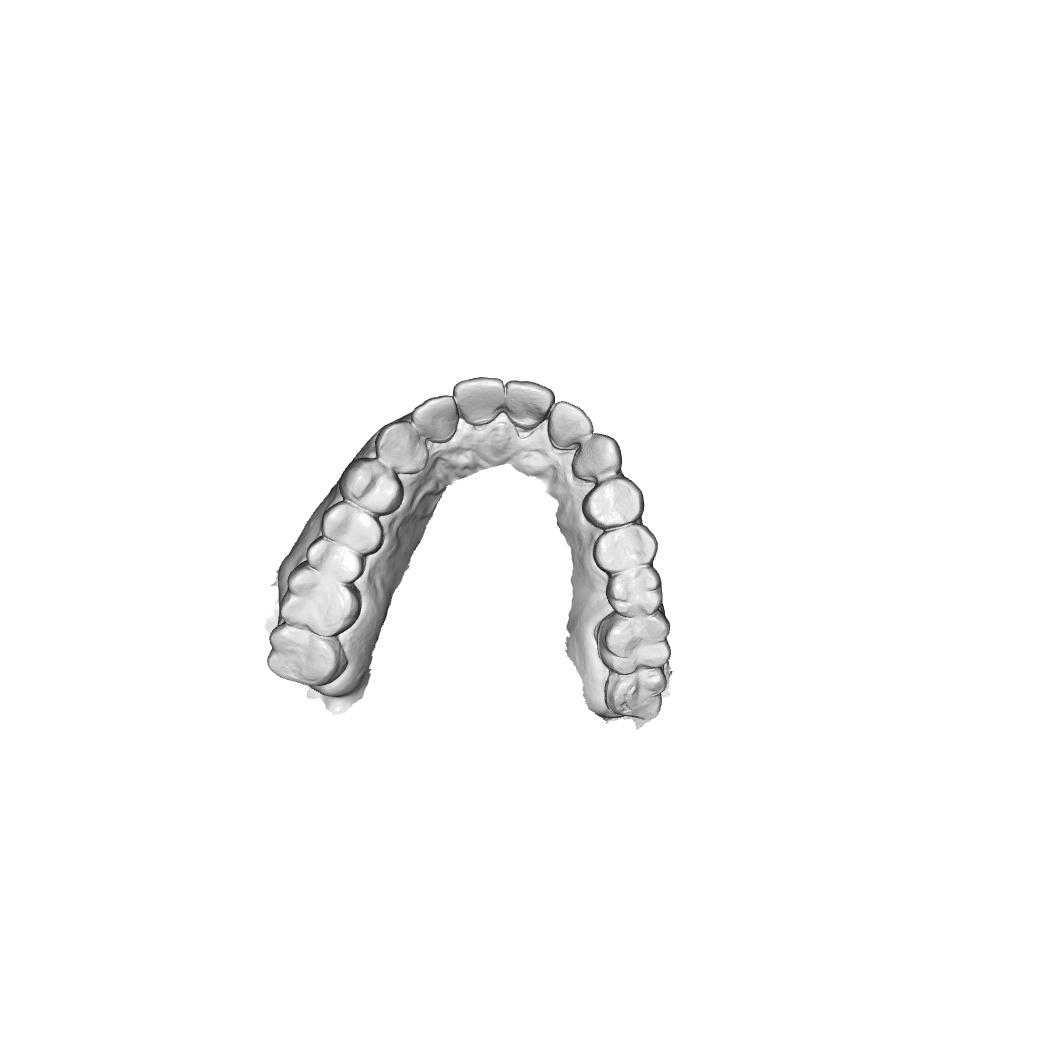canine: (373, 420, 430, 476), (570, 432, 624, 482)
incisor: (502, 378, 557, 432), (452, 375, 505, 429), (408, 394, 461, 444), (546, 400, 596, 452)
molar: (278, 562, 363, 640), (265, 621, 351, 689), (593, 610, 673, 677), (602, 667, 669, 723), (604, 567, 665, 619), (305, 535, 365, 584)
premolar: (337, 456, 406, 516), (320, 501, 386, 557), (579, 475, 645, 531), (591, 522, 660, 574)
